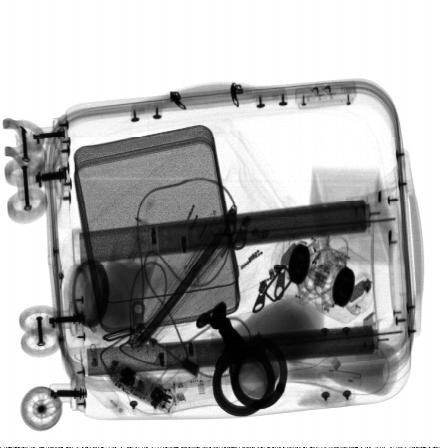HandCuffs: (194, 299, 291, 419)
